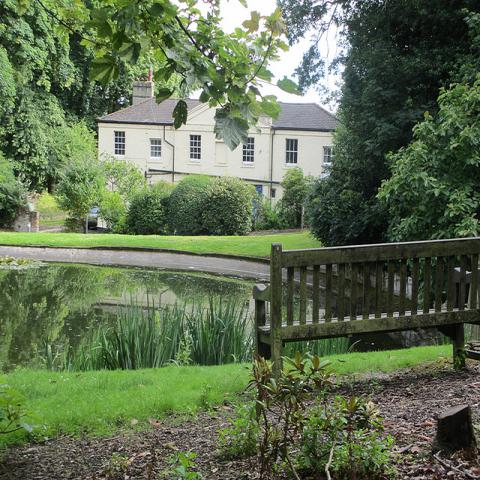car: (88, 206, 98, 231)
